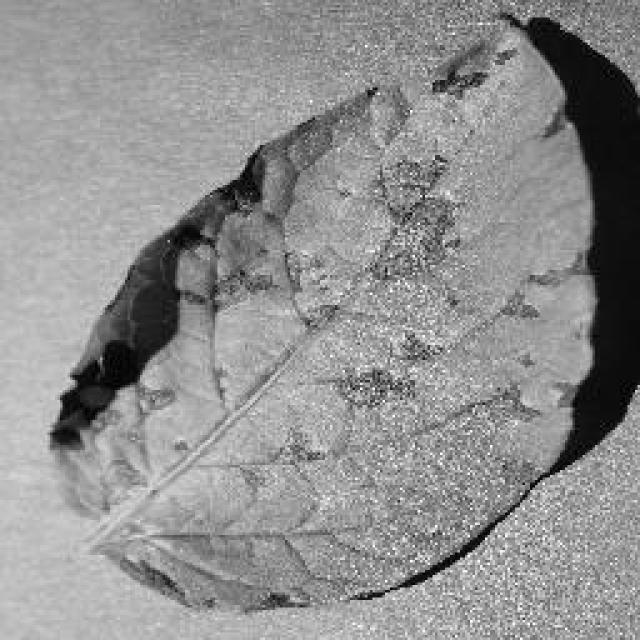Potato: (48, 13, 638, 615)
